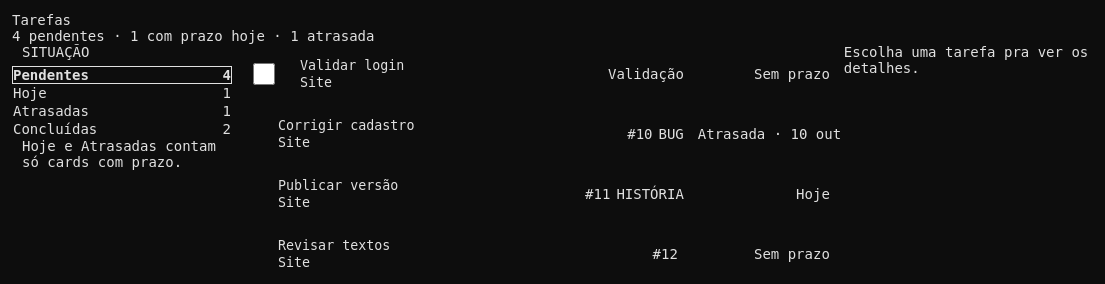
Scenario: TasksScreen › selecting a row shows the detail panel and marks the row aria-current
expect the text "Escolha uma tarefa pra ver os detalhes." is shown: met, box [844, 44, 1088, 76]
Click the text "Validar login": (352, 66) [300, 58, 404, 73]
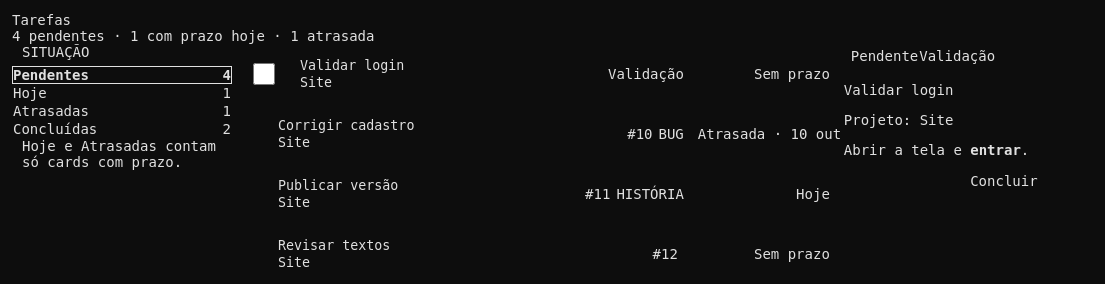
expect the heading "Validar login" is shown: met, box [844, 82, 953, 98]
expect the text "Projeto: Site" is shown: met, box [844, 112, 953, 128]
expect the text "Pendente" is shown: met, box [844, 44, 919, 68]
